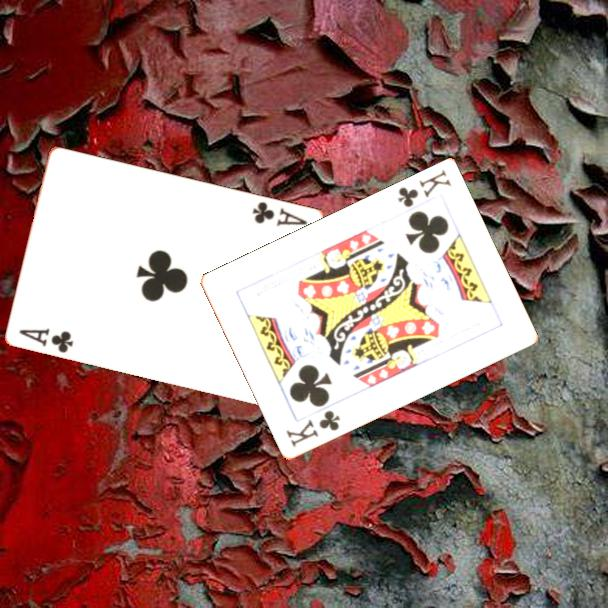c01: (16, 324, 77, 356), (249, 198, 310, 229)
c13: (394, 166, 454, 211), (282, 407, 343, 451)
